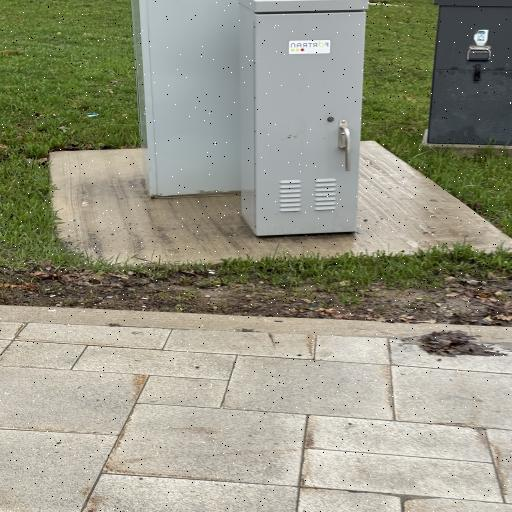Electrical Box: (123, 0, 370, 241), (420, 0, 512, 144)
